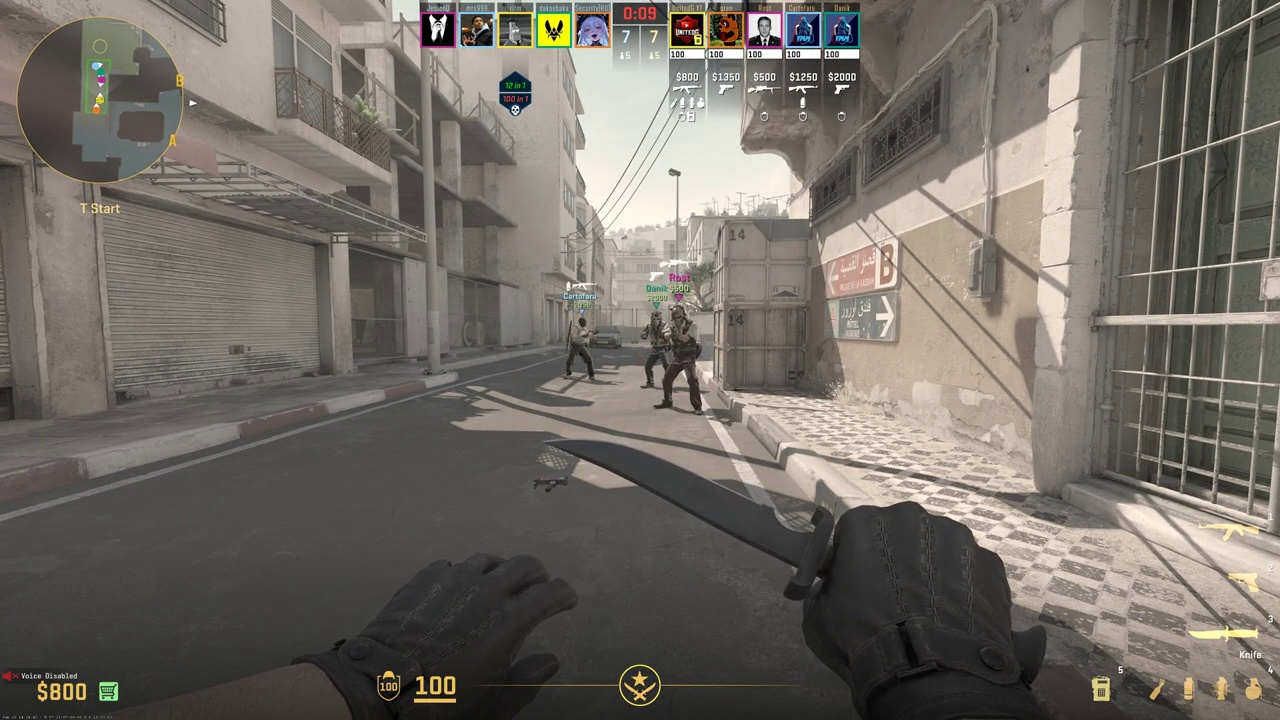Terrorist: (664, 305, 702, 414), (640, 312, 666, 388), (566, 317, 595, 380)
